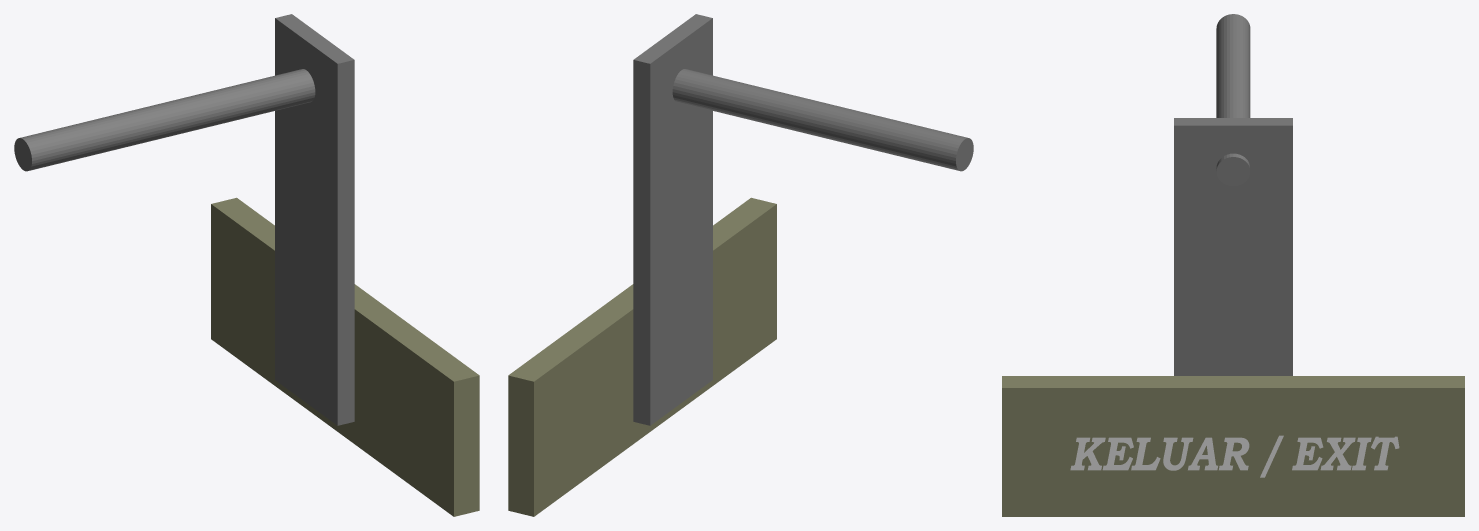
Rendered from exit.fbx.
3 renders of one model, left to right at view 1: azimuth 30°, elevation 25°; view 2: azimuth 150°, elevation 25°; view 3: azimuth 270°, elevation 25°, orthographic. The views are drawn at different scales.
Visible parts, largest first — view 1: Cube, Cube.003, Cylinder; view 2: Cube, Cube.003, Cylinder; view 3: Cube, Cube.003, Text, Cylinder.
Part boxes in pixels (left/top/right/bottom): Cube: left=211, top=197, right=479, bottom=516; Cube.003: left=275, top=14, right=354, bottom=425; Cylinder: left=14, top=69, right=315, bottom=171; Cube: left=508, top=197, right=776, bottom=516; Cube.003: left=633, top=14, right=712, bottom=425; Cylinder: left=672, top=69, right=973, bottom=171; Cube: left=1002, top=376, right=1464, bottom=516; Cube.003: left=1174, top=118, right=1292, bottom=375; Text: left=1070, top=435, right=1399, bottom=477; Cylinder: left=1216, top=14, right=1250, bottom=186.
Size of the model in its own units: 196 by 219 by 245.
